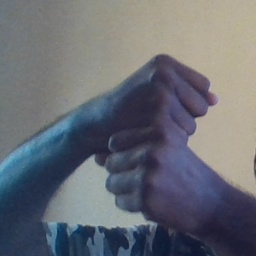G: (99, 48, 221, 218)
